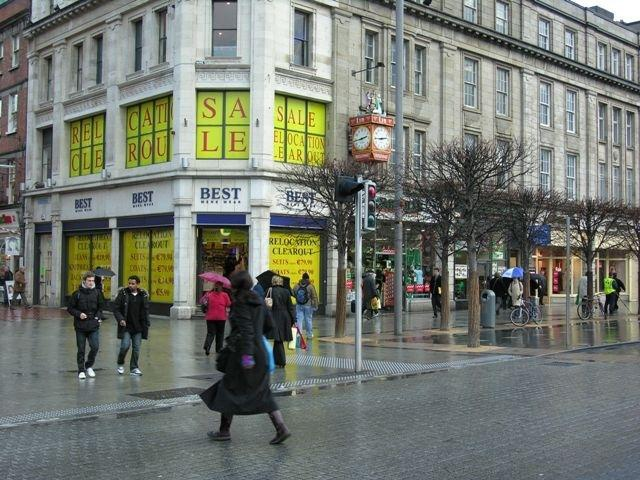non-vehicle: (509, 294, 543, 326), (574, 292, 606, 321)
